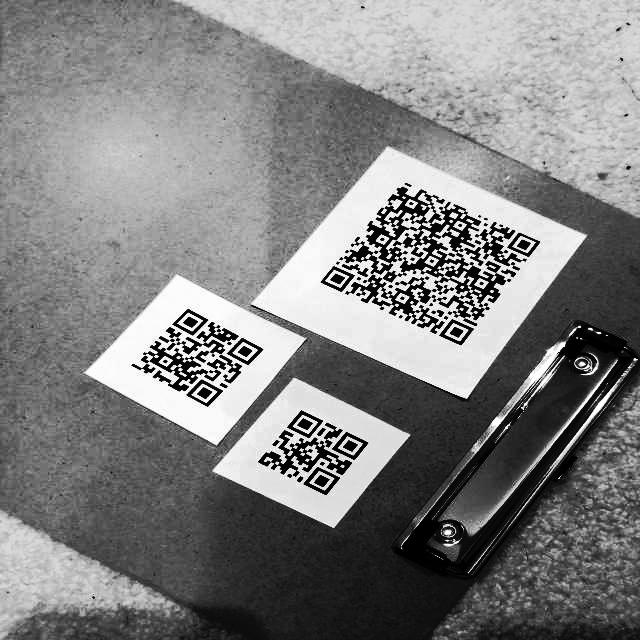qr_code: (313, 167, 547, 359), (119, 299, 270, 413), (247, 390, 383, 503)
